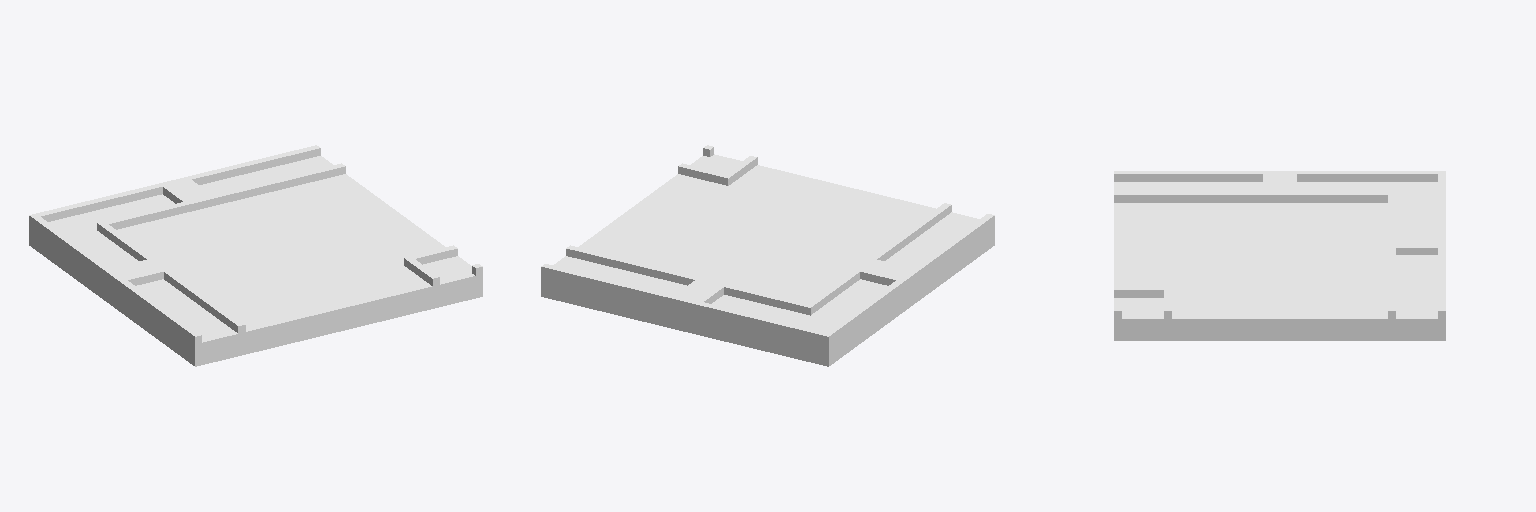
Rendered from RoadL1.vox.obj.
3 views of the same model, side by side, from view 1: azimuth 30°, elevation 25°; view 2: azimuth 150°, elevation 25°; view 3: azimuth 270°, elevation 25° (orthographic).
Visible parts, largest first — view 1: object 1; view 2: object 1; view 3: object 1.
Boxes of the visible parts, <box> form: object 1: <box>29,145,482,366</box>; object 1: <box>541,145,994,366</box>; object 1: <box>1114,171,1445,340</box>.
Size of the model in its own units: 4 by 0.4 by 4.